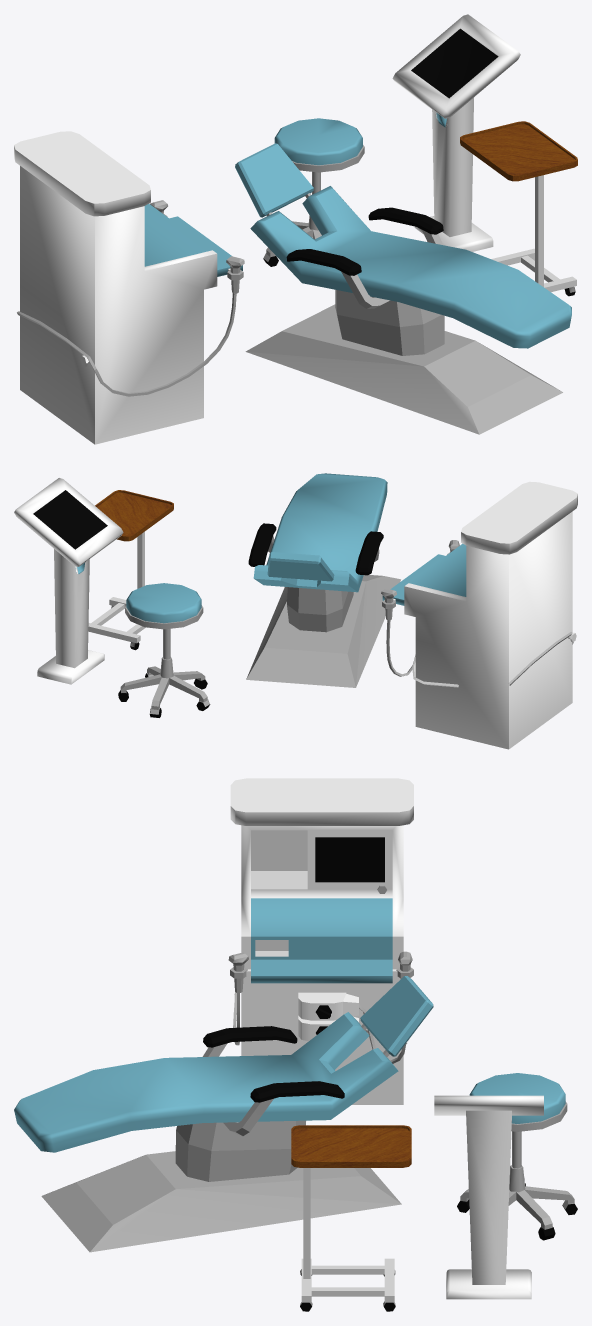
File: treatment_set.dae
3 renders of one model, top to bottom at view 1: azimuth 30°, elevation 25°; view 2: azimuth 150°, elevation 25°; view 3: azimuth 270°, elevation 25°, orthographic. The views are drawn at different scales.
Parts seen in each view (by area): view 1: Medical Device Treatment, Treatment Chair, Standing Monitor, Small Cart, Treatment Stool; view 2: Medical Device Treatment, Treatment Chair, Standing Monitor, Treatment Stool, Small Cart; view 3: Treatment Chair, Medical Device Treatment, Standing Monitor, Small Cart, Treatment Stool.
Boxes of the visible parts, x1=… form: Medical Device Treatment: x1=14, y1=131, x2=244, y2=444; Treatment Chair: x1=235, y1=143, x2=571, y2=434; Standing Monitor: x1=392, y1=14, x2=520, y2=251; Small Cart: x1=460, y1=121, x2=577, y2=296; Treatment Stool: x1=263, y1=118, x2=364, y2=266; Medical Device Treatment: x1=381, y1=481, x2=577, y2=749; Treatment Chair: x1=246, y1=473, x2=400, y2=687; Standing Monitor: x1=14, y1=478, x2=123, y2=684; Treatment Stool: x1=118, y1=583, x2=210, y2=717; Small Cart: x1=88, y1=490, x2=173, y2=650; Treatment Chair: x1=14, y1=976, x2=433, y2=1252; Medical Device Treatment: x1=228, y1=778, x2=413, y2=1104; Standing Monitor: x1=434, y1=1095, x2=543, y2=1299; Small Cart: x1=291, y1=1125, x2=411, y2=1311; Treatment Stool: x1=457, y1=1073, x2=577, y2=1240.
Size of the model in its own units: 3.52 by 3.03 by 1.57.
